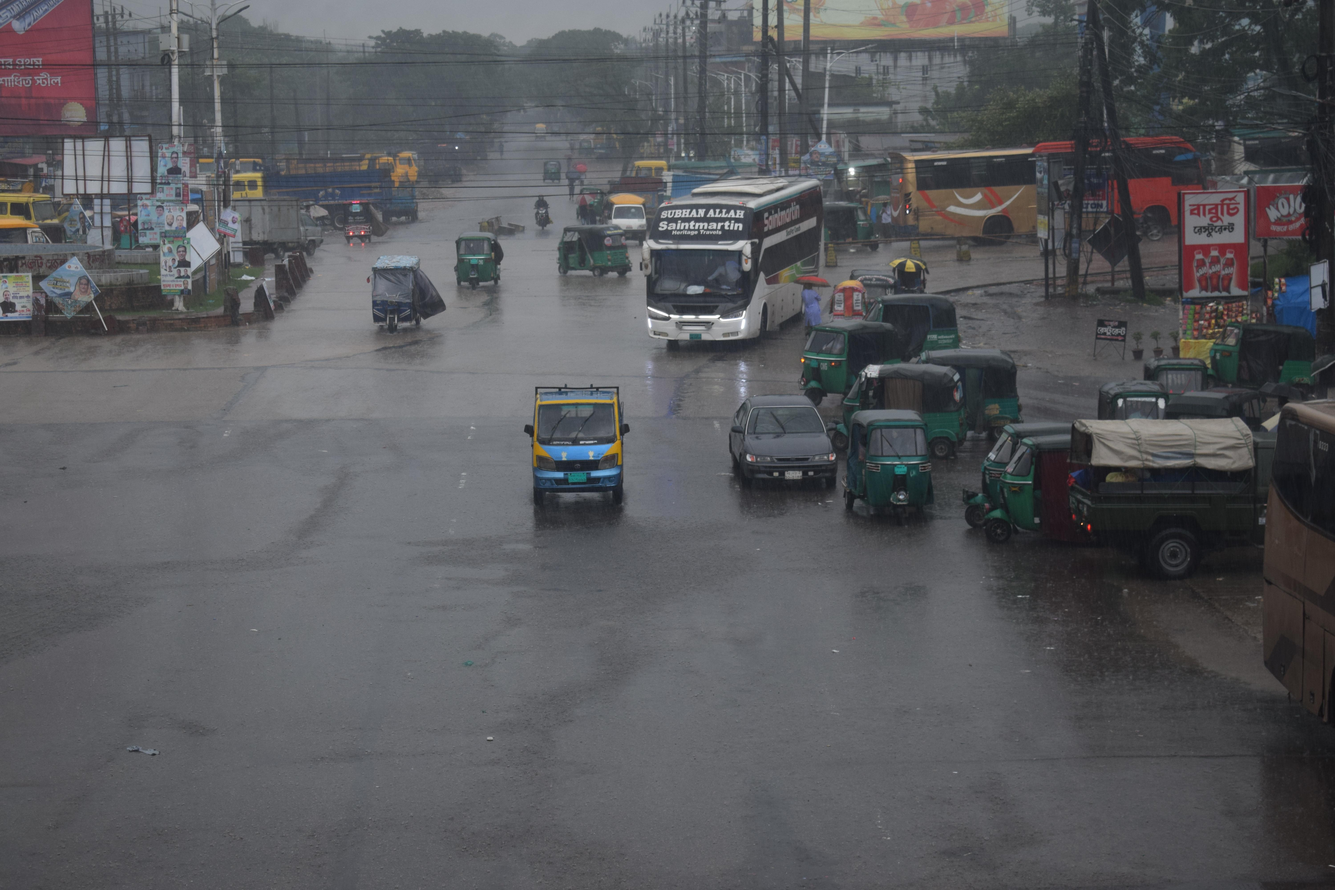Bike: (520, 188, 572, 232)
Bus: (608, 167, 864, 349), (884, 127, 1232, 255), (1234, 381, 1335, 763), (1210, 99, 1335, 235)
Car: (705, 367, 858, 530), (339, 228, 463, 342)
Truck: (1046, 400, 1264, 595), (502, 348, 651, 566), (202, 135, 398, 228), (0, 178, 65, 267)
